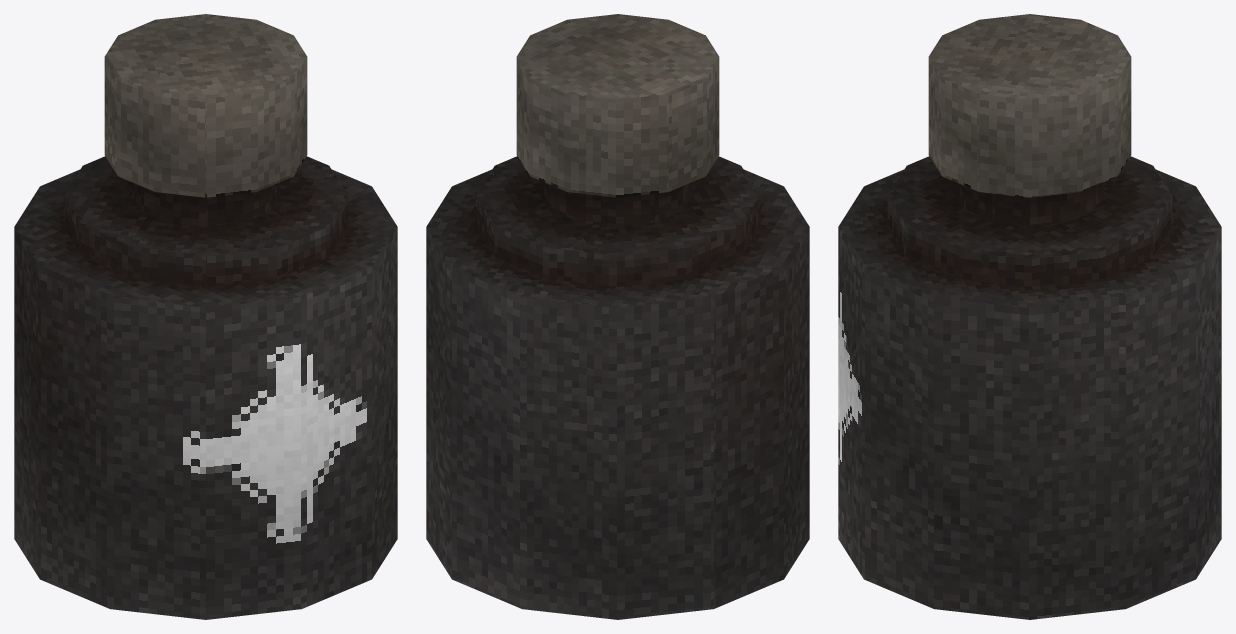
File: Ink.gltf
3 views of the same model, side by side, from view 1: azimuth 30°, elevation 25°; view 2: azimuth 150°, elevation 25°; view 3: azimuth 270°, elevation 25° (orthographic).
Visible parts, largest first — view 1: Ink; view 2: Ink; view 3: Ink.
Boxes of the visible parts, <box> form: Ink: <box>14,14,397,619</box>; Ink: <box>426,14,809,619</box>; Ink: <box>838,14,1221,619</box>.
Bounding box in the file's own units: 0.9917 × 1.38 × 0.9917.
1 material, 1 textured.
